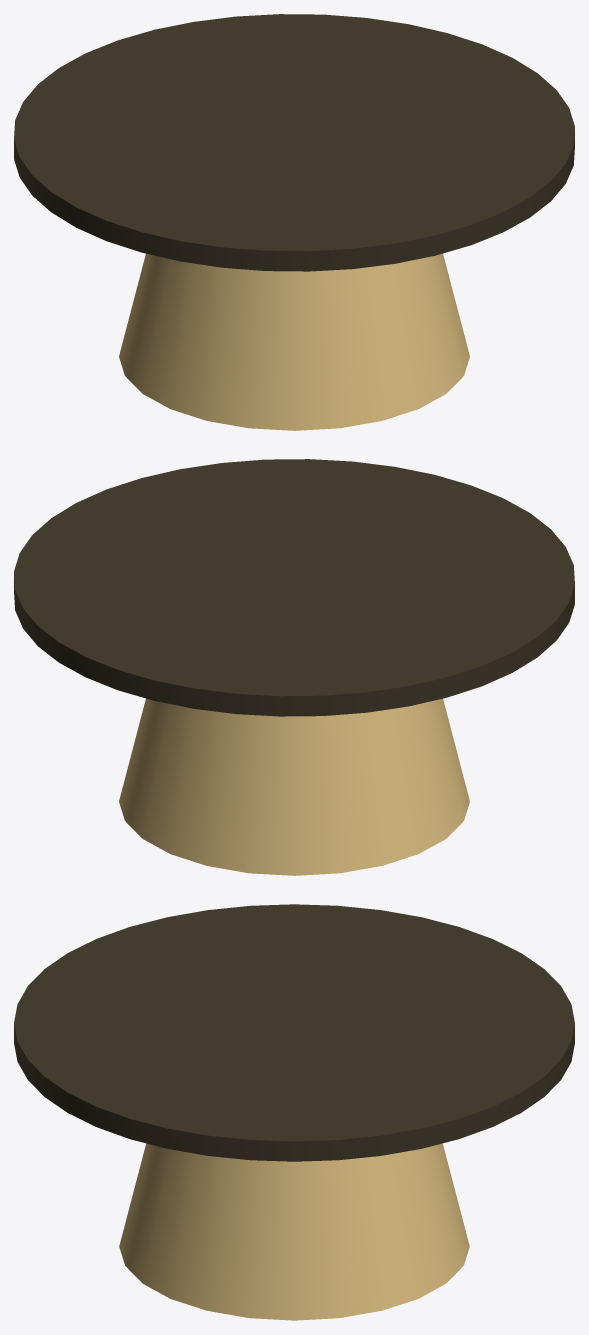
The model's file is fur_coffee_round.glb.
3 renders of one model, top to bottom at view 1: azimuth 30°, elevation 25°; view 2: azimuth 150°, elevation 25°; view 3: azimuth 270°, elevation 25°, orthographic.
Visible parts, largest first — view 1: FUR_coffee_round; view 2: FUR_coffee_round; view 3: FUR_coffee_round.
Part boxes in pixels (x1,y1,x2,y2): FUR_coffee_round: (14,14,574,430); FUR_coffee_round: (14,459,574,875); FUR_coffee_round: (14,904,574,1320).
Bounding box in the file's own units: 1 × 0.44 × 1.
